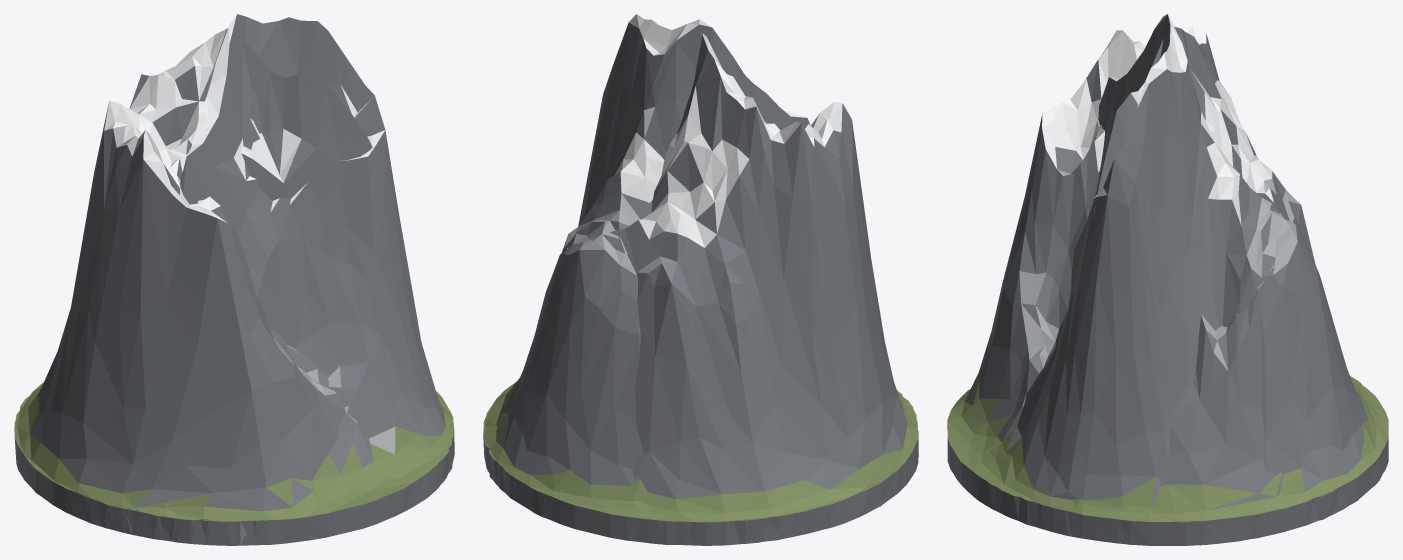
File: peak.glb
The picture shows the model from 3 angles, left to right: view 1: azimuth 30°, elevation 25°; view 2: azimuth 150°, elevation 25°; view 3: azimuth 270°, elevation 25°; orthographic projection.
Parts seen in each view (by area): view 1: peak_variant_5, peak_variant_4; view 2: peak_variant_5, peak_variant_4; view 3: peak_variant_4, peak_variant_5.
Boxes of the visible parts, x1,y1,x2,y2 form: peak_variant_5: (14, 28, 454, 545); peak_variant_4: (14, 14, 454, 545); peak_variant_5: (483, 34, 918, 545); peak_variant_4: (483, 14, 918, 545); peak_variant_4: (947, 14, 1388, 545); peak_variant_5: (947, 25, 1388, 545).
Size of the model in its own units: 0.4971 by 0.5464 by 0.4971.
